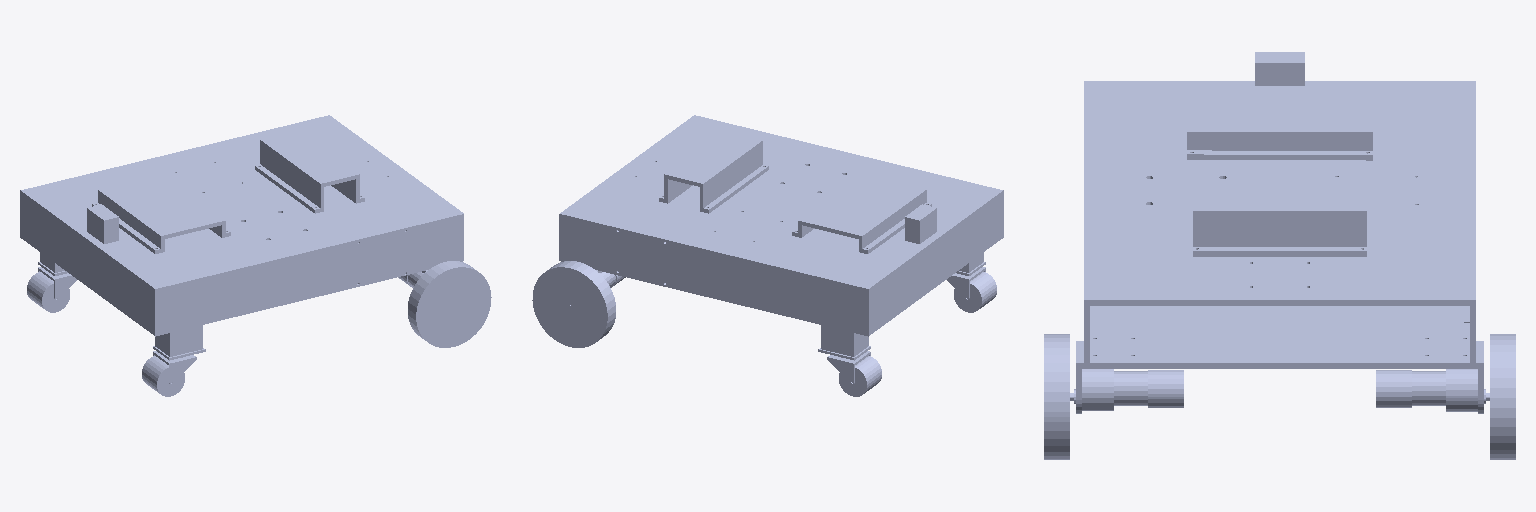
URDF robot description (savyyage):
<?xml version="1.0" encoding="utf-8"?>
<!-- This URDF was automatically created by SolidWorks to URDF Exporter! Originally created by [author] ([email redacted]) 
     Commit Version: 1.5.1-0-g916b5db  Build Version: 1.5.7152.31018
     For more information, please see http://wiki.ros.org/sw_urdf_exporter -->
<robot
  name="savyyage">
  <link
    name="base_link">
    <inertial>
      <origin
        xyz="0.149929149687969 0.0656732904513833 -0.0922338678122183"
        rpy="0 0 0" />
      <mass
        value="2.09738280633032" />
      <inertia
        ixx="0.0169845783356244"
        ixy="-8.36939636501596E-06"
        ixz="6.95769457368112E-07"
        iyy="0.0396539562803083"
        iyz="8.22764549530396E-07"
        izz="0.0248346476551759" />
    </inertial>
    <visual>
      <origin
        xyz="0 0 0"
        rpy="0 0 0" />
      <geometry>
        <mesh
          filename="package://savyyage/meshes/base_link.STL" />
      </geometry>
      <material
        name="">
        <color
          rgba="0.792156862745098 0.819607843137255 0.933333333333333 1" />
      </material>
    </visual>
    <collision>
      <origin
        xyz="0 0 0"
        rpy="0 0 0" />
      <geometry>
        <mesh
          filename="package://savyyage/meshes/base_link.STL" />
      </geometry>
    </collision>
  </link>
  <link
    name="left_wheel">
    <inertial>
      <origin
        xyz="0 0 0.01"
        rpy="0 0 0" />
      <mass
        value="0.156514146001844" />
      <inertia
        ixx="0.000103390636279718"
        ixy="0"
        ixz="-1.10940270700837E-21"
        iyy="0.000103390636279718"
        iyz="1.22477129909407E-22"
        izz="0.000196346996159313" />
    </inertial>
    <visual>
      <origin
        xyz="0 0 0"
        rpy="0 0 0" />
      <geometry>
        <mesh
          filename="package://savyyage/meshes/left_wheel.STL" />
      </geometry>
      <material
        name="">
        <color
          rgba="0.792156862745098 0.819607843137255 0.933333333333333 1" />
      </material>
    </visual>
    <collision>
      <origin
        xyz="0 0 0"
        rpy="0 0 0" />
      <geometry>
        <mesh
          filename="package://savyyage/meshes/left_wheel.STL" />
      </geometry>
    </collision>
  </link>
  <joint
    name="joint_left_wheel"
    type="continuous">
    <origin
      xyz="0.33476 -0.07379 0.0034895"
      rpy="1.5708 -0.10897 0" />
    <parent
      link="base_link" />
    <child
      link="left_wheel" />
    <axis
      xyz="0 0 1" />
  </joint>
  <link
    name="right_wheel">
    <inertial>
      <origin
        xyz="1.52655665885959E-15 -3.38618022510673E-15 -0.010000000000001"
        rpy="0 0 0" />
      <mass
        value="0.156514146001844" />
      <inertia
        ixx="0.000103390636279718"
        ixy="6.7762635780344E-21"
        ixz="-3.12357214248845E-19"
        iyy="0.000103390636279718"
        iyz="5.62659881703568E-19"
        izz="0.000196346996159313" />
    </inertial>
    <visual>
      <origin
        xyz="0 0 0"
        rpy="0 0 0" />
      <geometry>
        <mesh
          filename="package://savyyage/meshes/right_wheel.STL" />
      </geometry>
      <material
        name="">
        <color
          rgba="0.792156862745098 0.819607843137255 0.933333333333333 1" />
      </material>
    </visual>
    <collision>
      <origin
        xyz="0 0 0"
        rpy="0 0 0" />
      <geometry>
        <mesh
          filename="package://savyyage/meshes/right_wheel.STL" />
      </geometry>
    </collision>
  </link>
  <joint
    name="joint_right_wheel"
    type="continuous">
    <origin
      xyz="0.33476 0.25821 0.0034895"
      rpy="-1.5708 1.064 -3.1416" />
    <parent
      link="base_link" />
    <child
      link="right_wheel" />
    <axis
      xyz="0 0 1" />
  </joint>
  <link
    name="laser_sensor">
    <inertial>
      <origin
        xyz="1.38777878078145E-17 -0.045 0.02"
        rpy="0 0 0" />
      <mass
        value="0.024" />
      <inertia
        ixx="2.6E-06"
        ixy="-7.70949059800128E-22"
        ixz="7.33349831960146E-23"
        iyy="4E-06"
        iyz="5.29395592033938E-23"
        izz="5E-06" />
    </inertial>
    <visual>
      <origin
        xyz="0 0 0"
        rpy="0 0 0" />
      <geometry>
        <mesh
          filename="package://savyyage/meshes/laser_sensor.STL" />
      </geometry>
      <material
        name="">
        <color
          rgba="0.792156862745098 0.819607843137255 0.933333333333333 1" />
      </material>
    </visual>
    <collision>
      <origin
        xyz="0 0 0"
        rpy="0 0 0" />
      <geometry>
        <mesh
          filename="package://savyyage/meshes/laser_sensor.STL" />
      </geometry>
    </collision>
  </link>
  <joint
    name="joint_laser_sensor"
    type="fixed">
    <origin
      xyz="-0.043238 0.09221 0.07249"
      rpy="-1.5708 0 -1.5708" />
    <parent
      link="base_link" />
    <child
      link="laser_sensor" />
    <axis
      xyz="0 0 0" />
  </joint>

  <gazebo>
    <plugin filename="libgazebo_ros_diff_drive.so" name="differential_drive_controller">
      <alwaysOn>true</alwaysOn>
      <updateRate>20</updateRate>
      <leftJoint>joint_right_wheel</leftJoint>
      <rightJoint>joint_left_wheel</rightJoint>
      <wheelSeparation>0.3</wheelSeparation>
      <wheelDiameter>0.01</wheelDiameter>
      <torque>0.1</torque>
      <commandTopic>cmd_vel</commandTopic>
      <odometryTopic>odom</odometryTopic>
      <odometryFrame>odom</odometryFrame>
      <robotBaseFrame>bas_link</robotBaseFrame>
    </plugin>
  </gazebo>

  <gazebo reference="Hokoyu_laser_scan">
    <sensor type="ray" name="head_hokuyo_sensor">
      <pose>0 0 0 0 0 0</pose>
      <visualize>false</visualize>
      <update_rate>20</update_rate>
      <ray>
        <scan>
          <horizontal>
            <samples>720</samples>
            <resolution>1</resolution>
            <min_angle>-1.570796</min_angle>
            <max_angle>1.570796</max_angle>
          </horizontal>
        </scan>
        <range>
          <min>0.10</min>
          <max>10.0</max>
          <resolution>0.01</resolution>
        </range>
        <noise>
          <type>gaussian</type>
          <mean>0.0</mean>
          <stddev>0.01</stddev>
        </noise>
      </ray>
      <plugin name="gazebo_ros_head_hokuyo_controller" filename="libgazebo_ros_laser.so">
        <topicName>/savvyage/laser/scan</topicName>
        <frameName>sensor_laser</frameName>
      </plugin>
    </sensor>
  </gazebo>

</robot>

--- Render facts (derived) ---
3 views of the same robot in one strip: view 1: azimuth 30°, elevation 25°; view 2: azimuth 150°, elevation 25°; view 3: azimuth 270°, elevation 25° (orthographic).
Model savyyage with 4 links and 3 joints (2 continuous, 1 fixed), rooted at base_link, posed all joints at 0.
Links seen in each view (by area): view 1: base_link, left_wheel, laser_sensor; view 2: base_link, right_wheel, laser_sensor; view 3: base_link, left_wheel, right_wheel, laser_sensor.
Boxes of the visible links, left/top/right/bottom form: base_link: left=20, top=115, right=463, bottom=396; left_wheel: left=408, top=261, right=491, bottom=347; laser_sensor: left=87, top=204, right=118, bottom=243; base_link: left=559, top=115, right=1003, bottom=396; right_wheel: left=532, top=261, right=615, bottom=347; laser_sensor: left=905, top=204, right=936, bottom=243; base_link: left=1070, top=81, right=1489, bottom=413; left_wheel: left=1044, top=334, right=1069, bottom=459; right_wheel: left=1490, top=334, right=1515, bottom=459; laser_sensor: left=1255, top=52, right=1304, bottom=85.
Size in the robot's own frame: 0.428 by 0.372 by 0.185 metres.
4 mesh visuals loaded from 4 distinct referenced files (4 binary STL).
